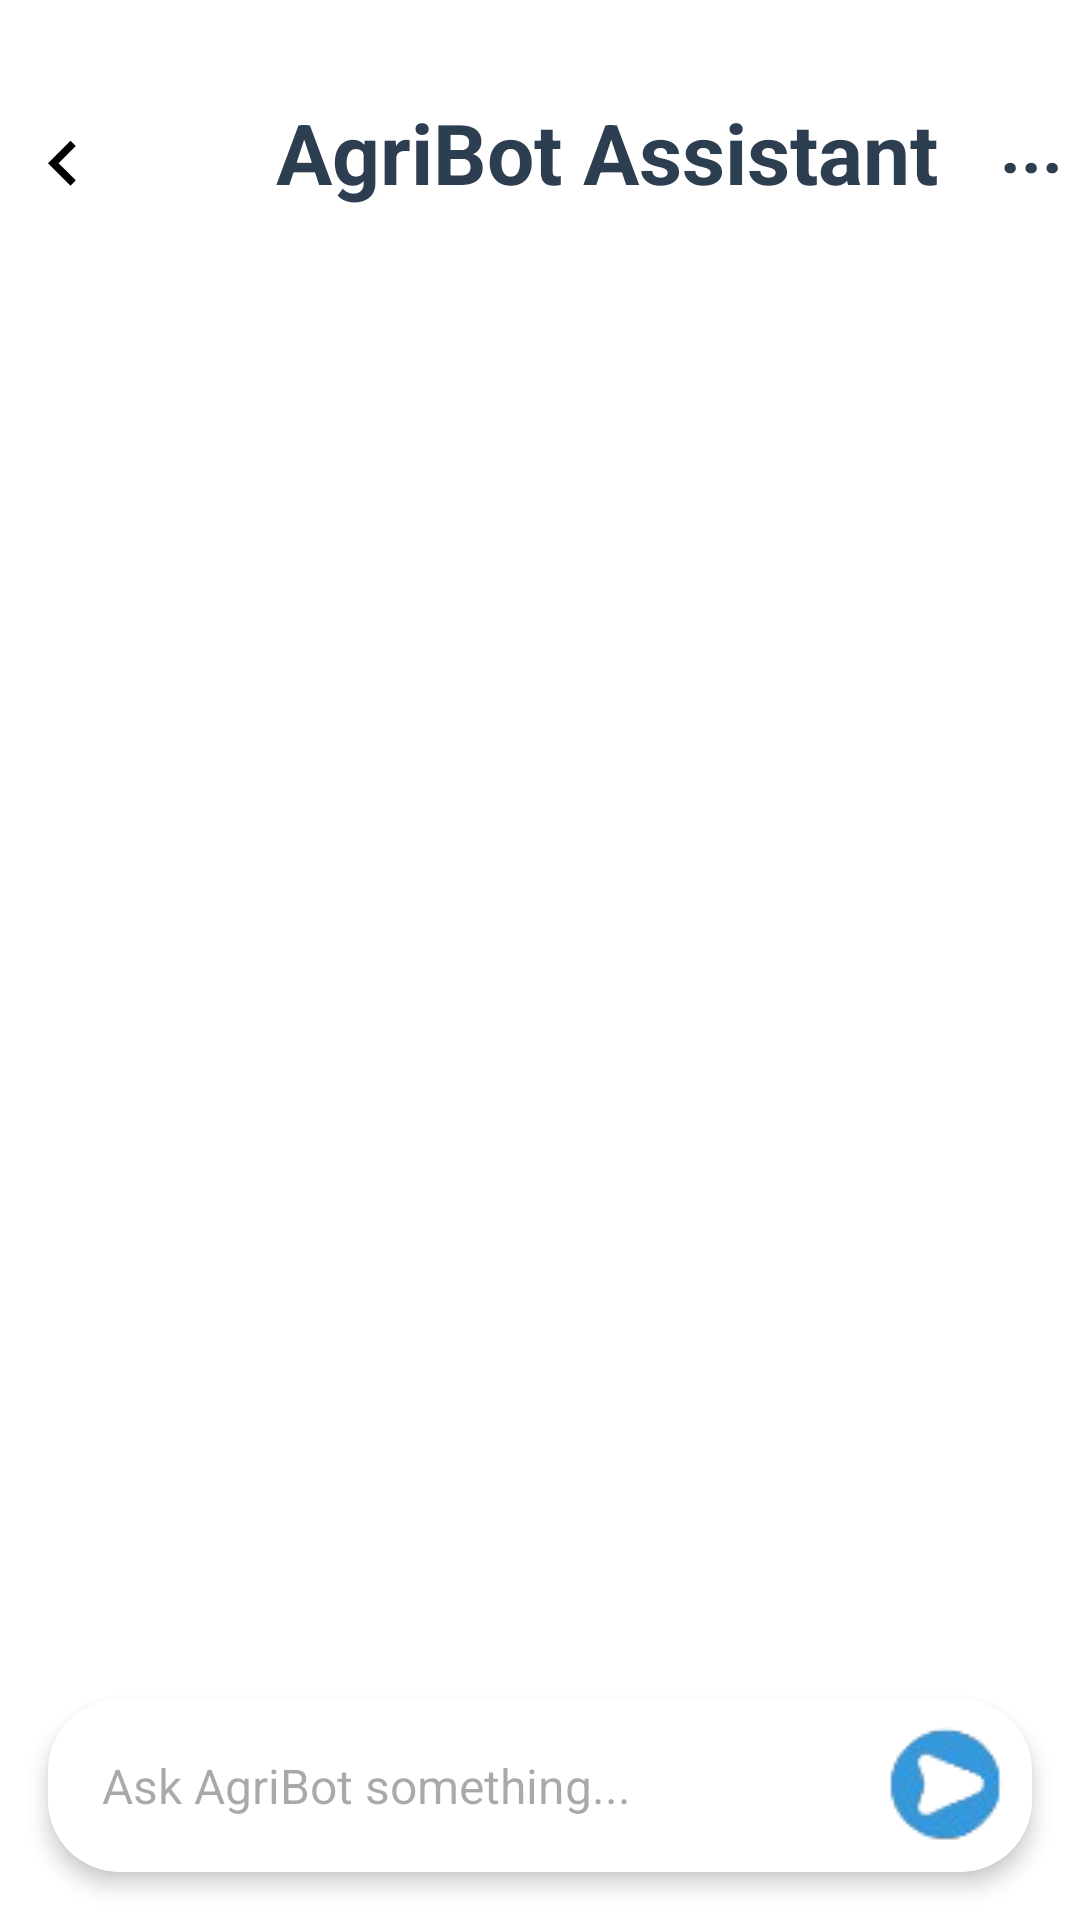

Point at icon controls on the screen. Image size 1080x1920, points as point (x, y).
arrow left: point (62, 163)
Send Message: point (945, 1784)
